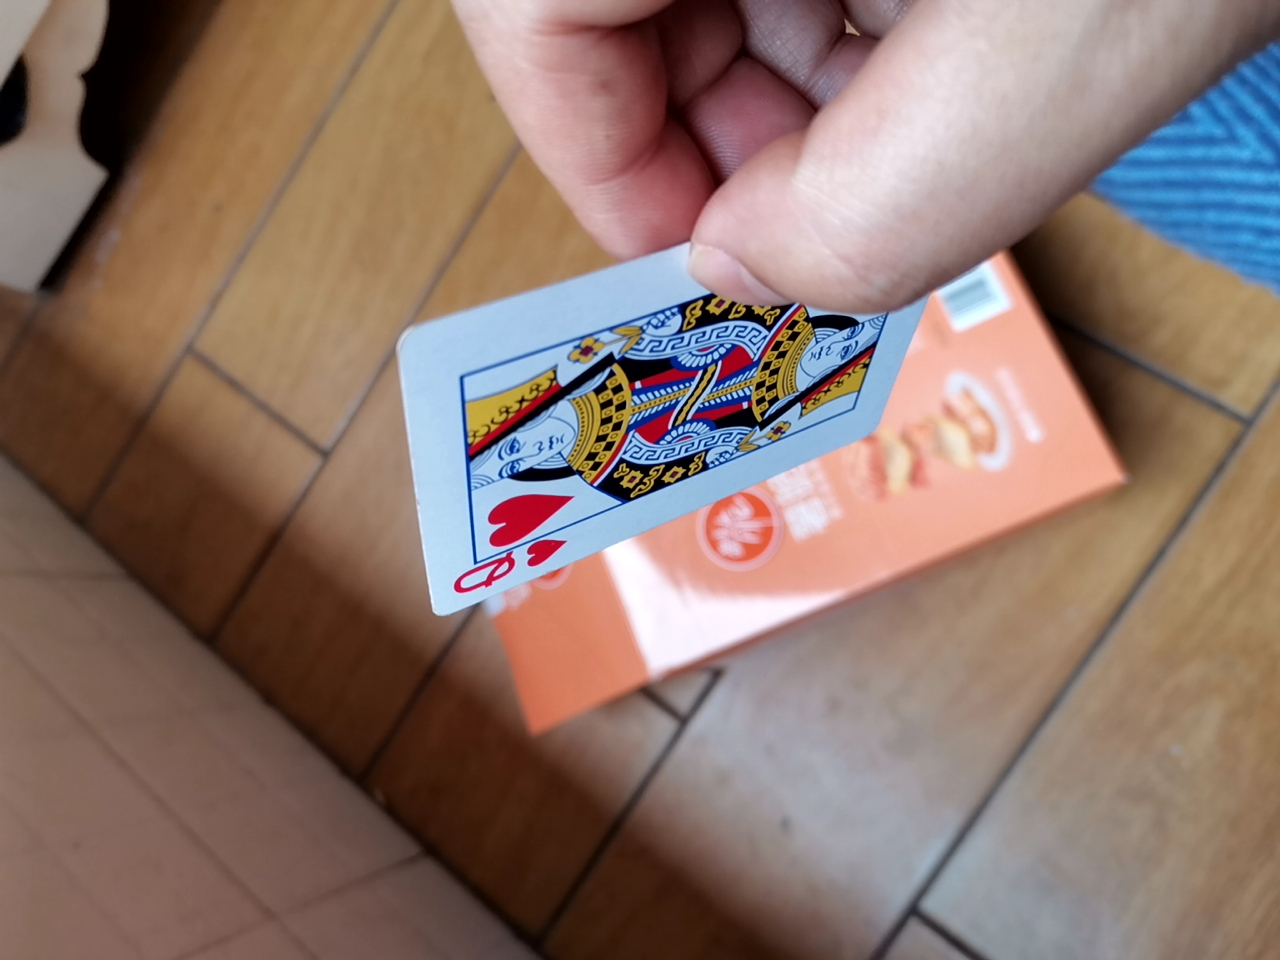hx q: (376, 213, 958, 684)
